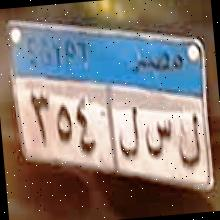3: (29, 88, 56, 147)
4: (73, 93, 96, 154)
5: (54, 100, 74, 142)
laam: (174, 112, 204, 174), (115, 102, 144, 160)
seen: (142, 116, 177, 160)
